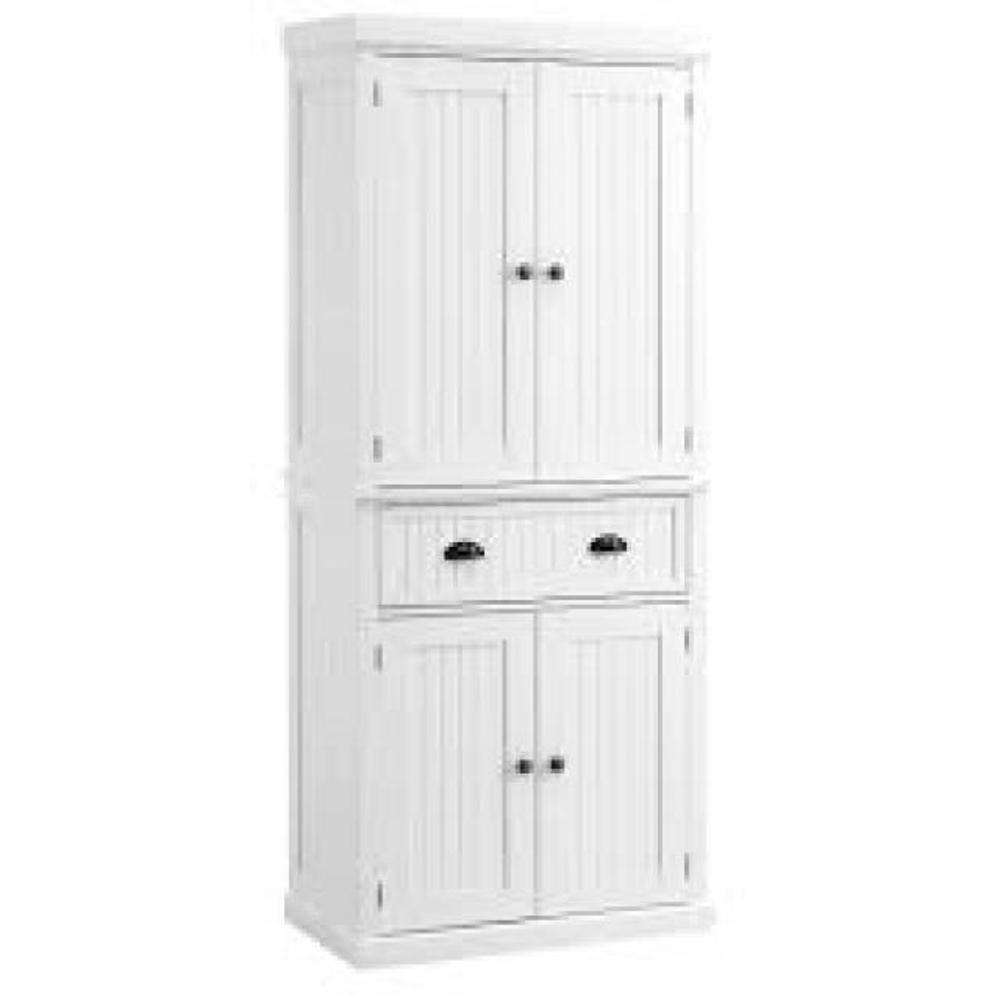cabinet: (243, 6, 777, 984)
